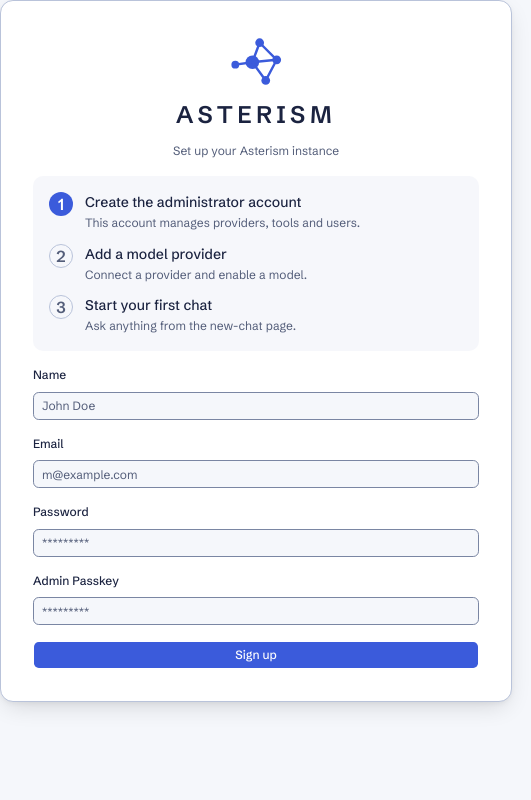
Test: focuses a long setup failure and retains editable credentials
In the field labelled "Email": (256, 474) x1=33 y1=460 x2=479 y2=488, type "person@example.test"
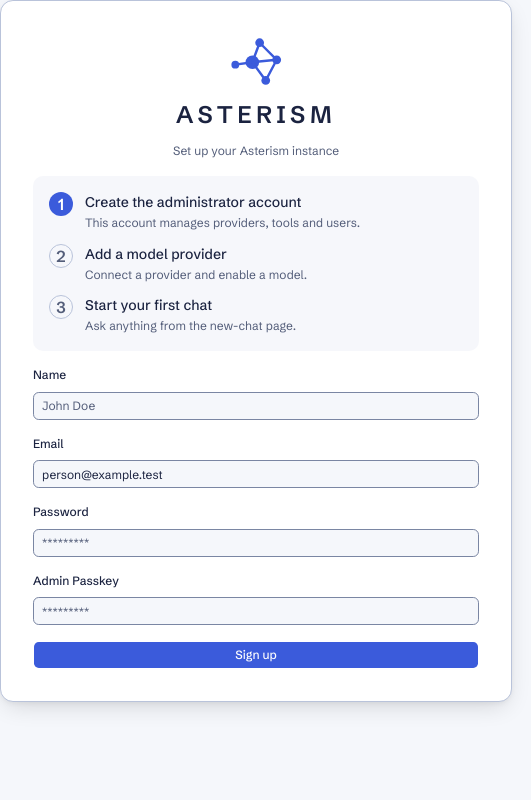
In the password field labelled "Password": (256, 543) x1=33 y1=529 x2=479 y2=557, type "Reachability-321!"
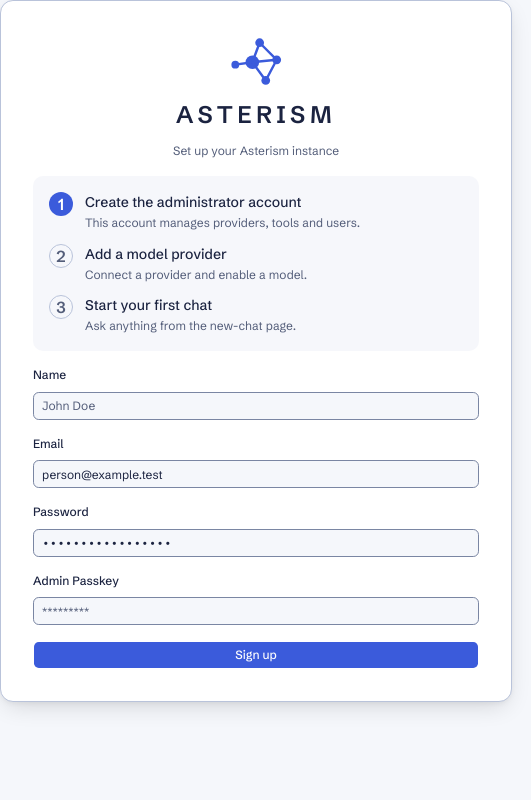
In the field labelled "Name": (256, 406) x1=33 y1=392 x2=479 y2=420, type "Administrator"
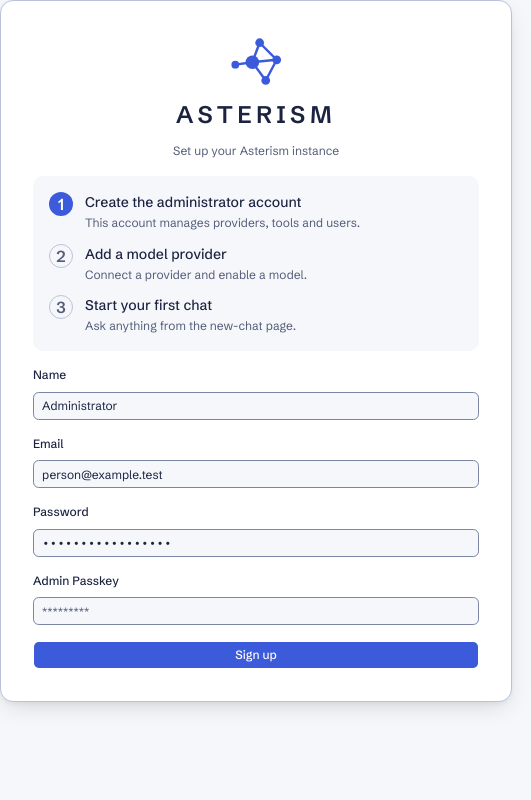
In the password field labelled "Admin Passkey": (256, 611) x1=33 y1=597 x2=479 y2=625, type "wrong-passkey"
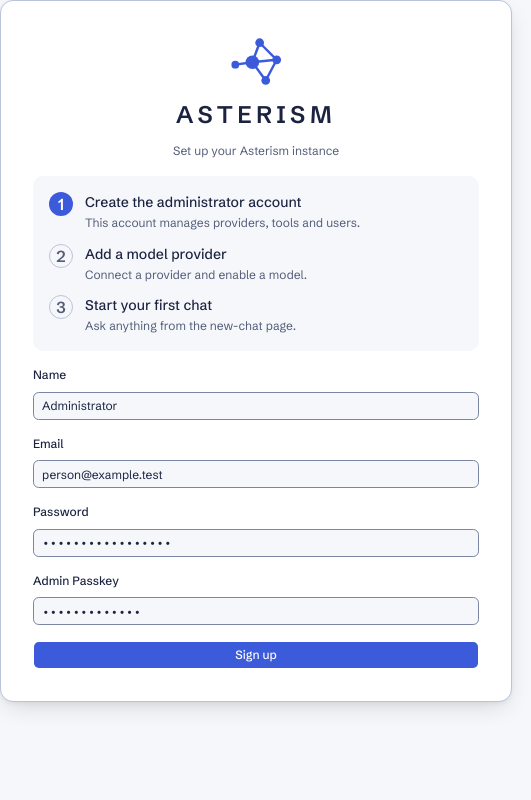
Click the button "Sign up": click(256, 655) x1=33 y1=641 x2=479 y2=669
(page scrolled)
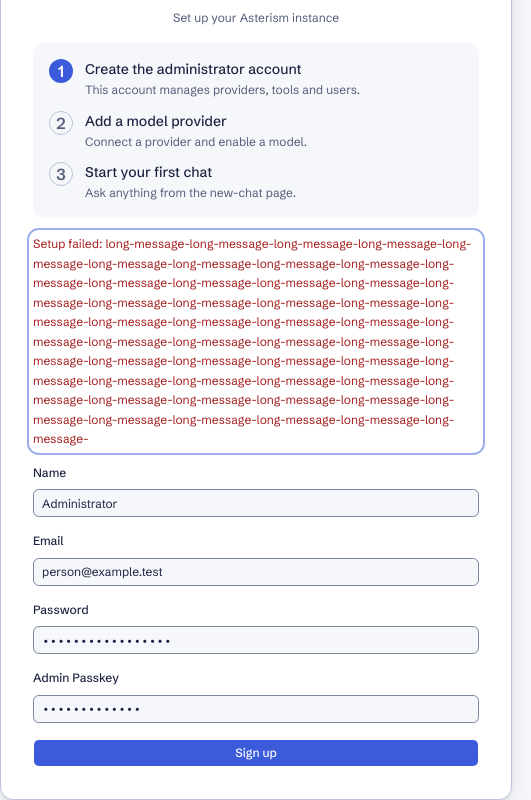
Expected: the button "Sign up" is enabled, x1=33 y1=739 x2=479 y2=767
Now the message shows "Setup failed:", box x1=33 y1=236 x2=472 y2=446
